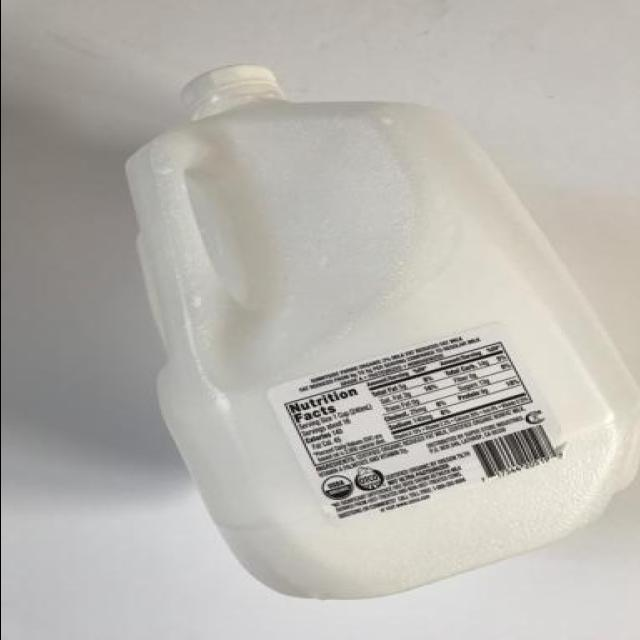HDPEM: (119, 62, 634, 602)
